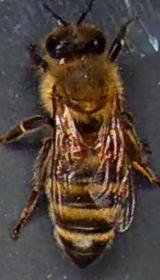varroa_mite: (92, 136, 116, 160)
